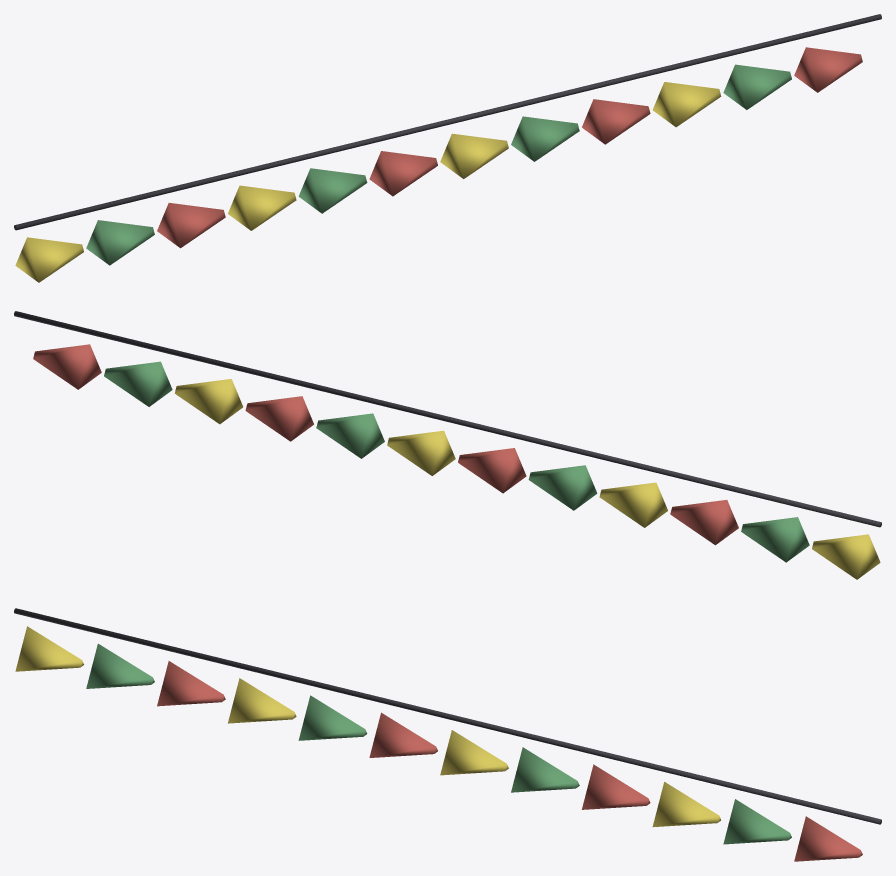
Rendered from prop_garland_b.glb.
3 renders of one model, top to bottom at view 1: azimuth 30°, elevation 25°; view 2: azimuth 150°, elevation 25°; view 3: azimuth 330°, elevation 25°, orthographic.
Parts seen in each view (by area): view 1: garland_b; view 2: garland_b; view 3: garland_b.
Part boxes in pixels (x1,y1,x2,y2): garland_b: [14, 14, 881, 282]; garland_b: [14, 311, 881, 579]; garland_b: [14, 608, 881, 861].
Bounding box in the file's own units: 4.4 × 0.252 × 0.2078.
